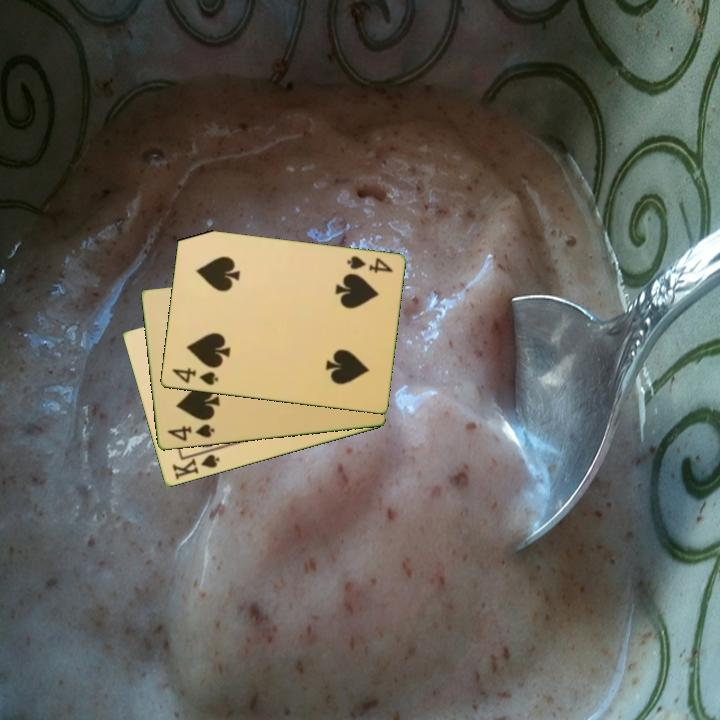4s: (343, 252, 395, 276), (164, 421, 217, 444), (168, 365, 221, 388)
Ks: (169, 446, 222, 483)
